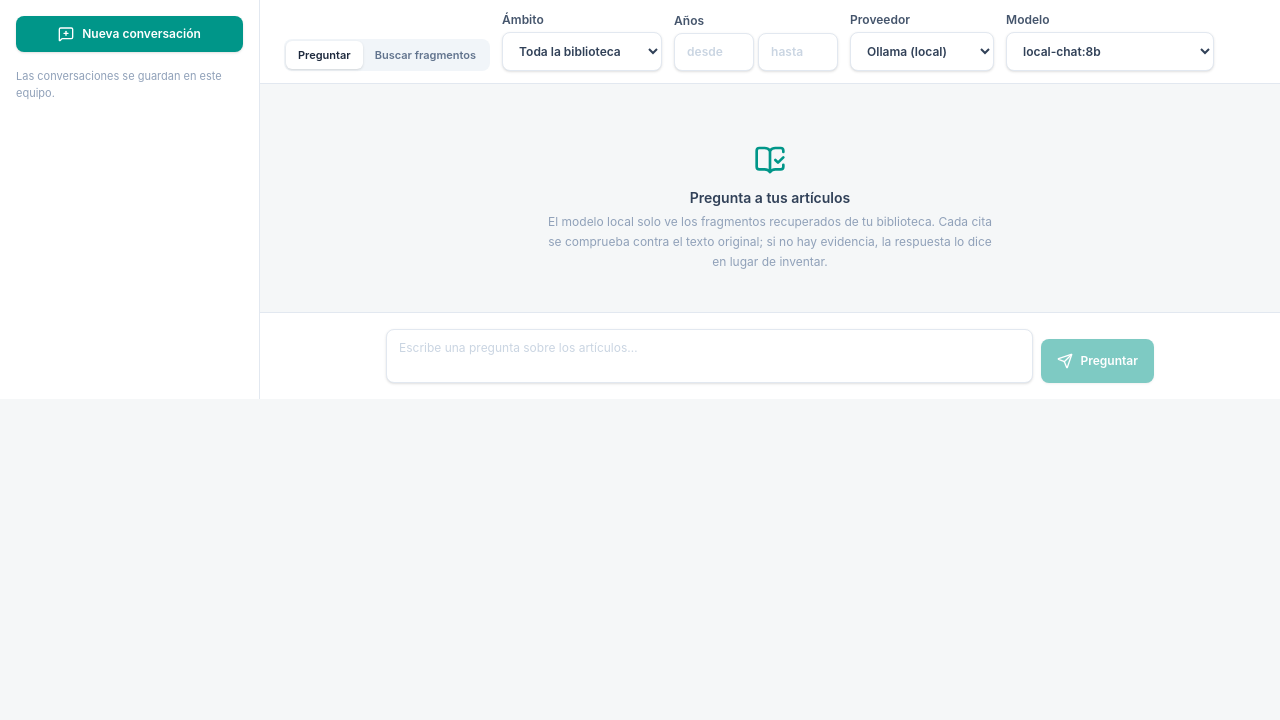
Scenario: AssistantPage › shows verified citations that open the cited page and region
In the text box labelled "pregunta": {"x": 709, "y": 356} [386,329,1032,383], type "¿Qué exactitud reporta?"
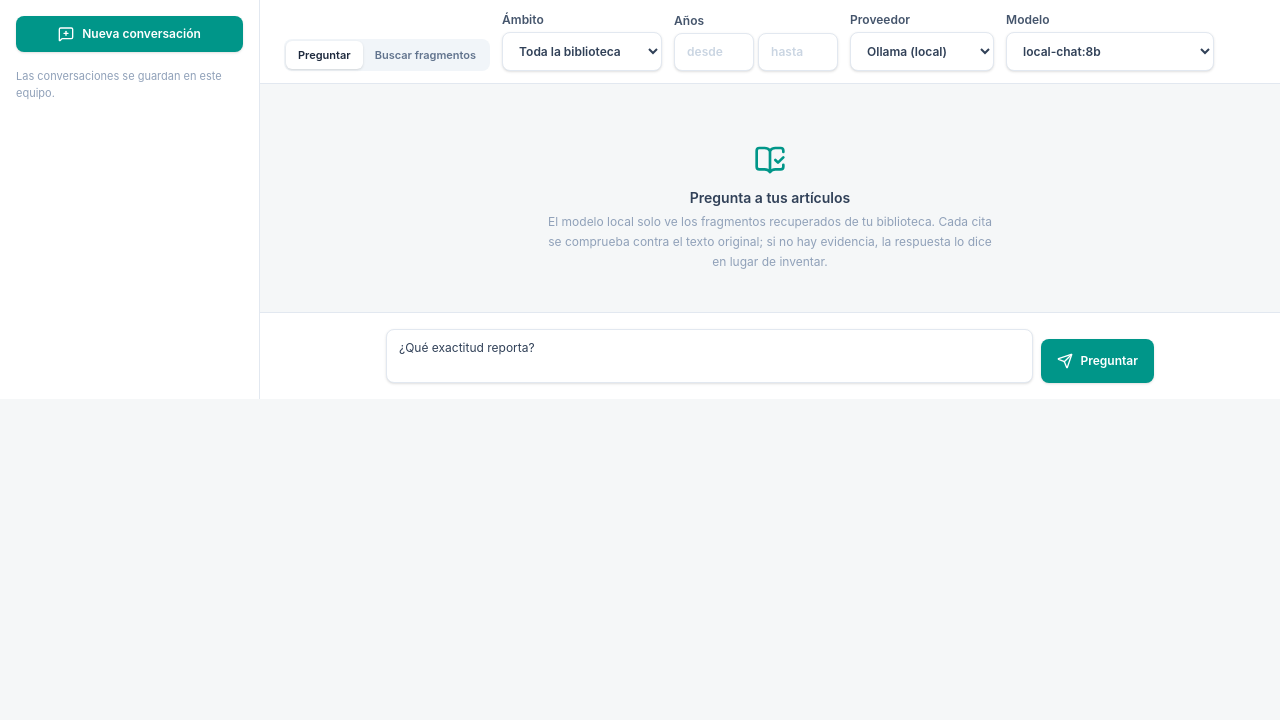
Click the button "Preguntar": {"x": 1097, "y": 361} [1040,339,1154,383]
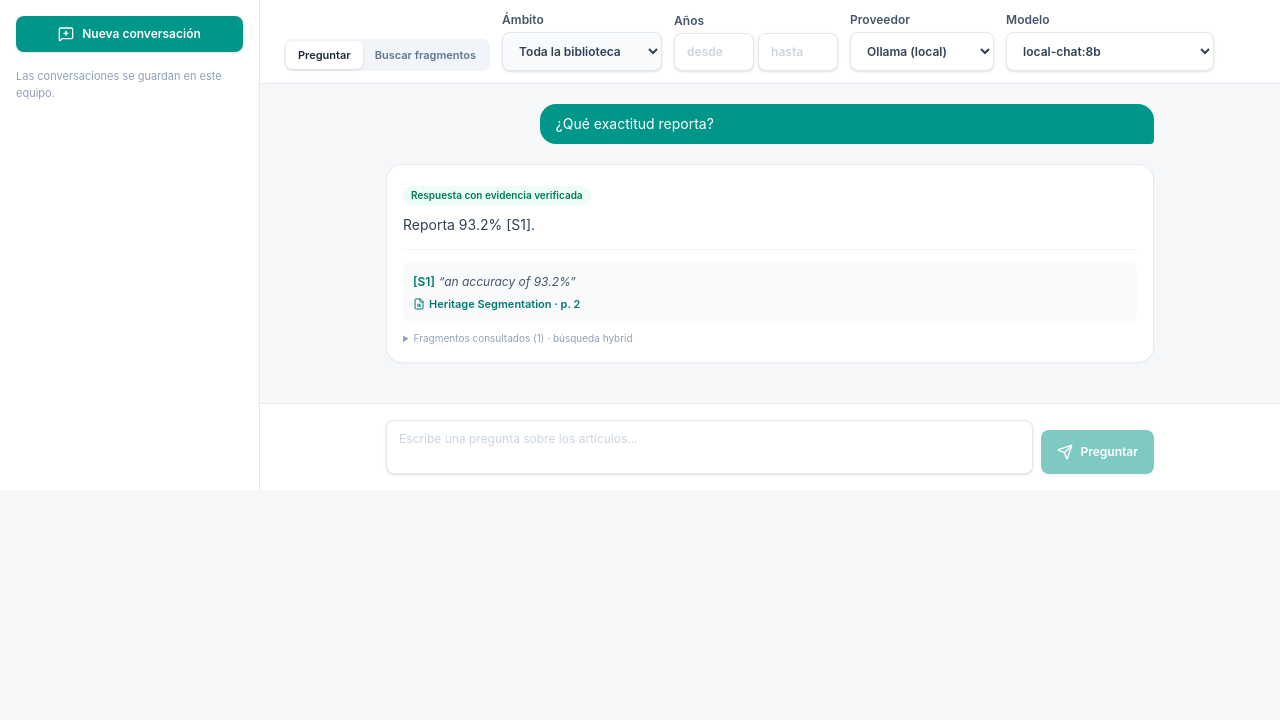
Now the text "Respuesta con evidencia verificada" is shown, box [403,186,591,205]
Now the text "“an accuracy of 93.2%”" is shown, box [413,274,576,289]
